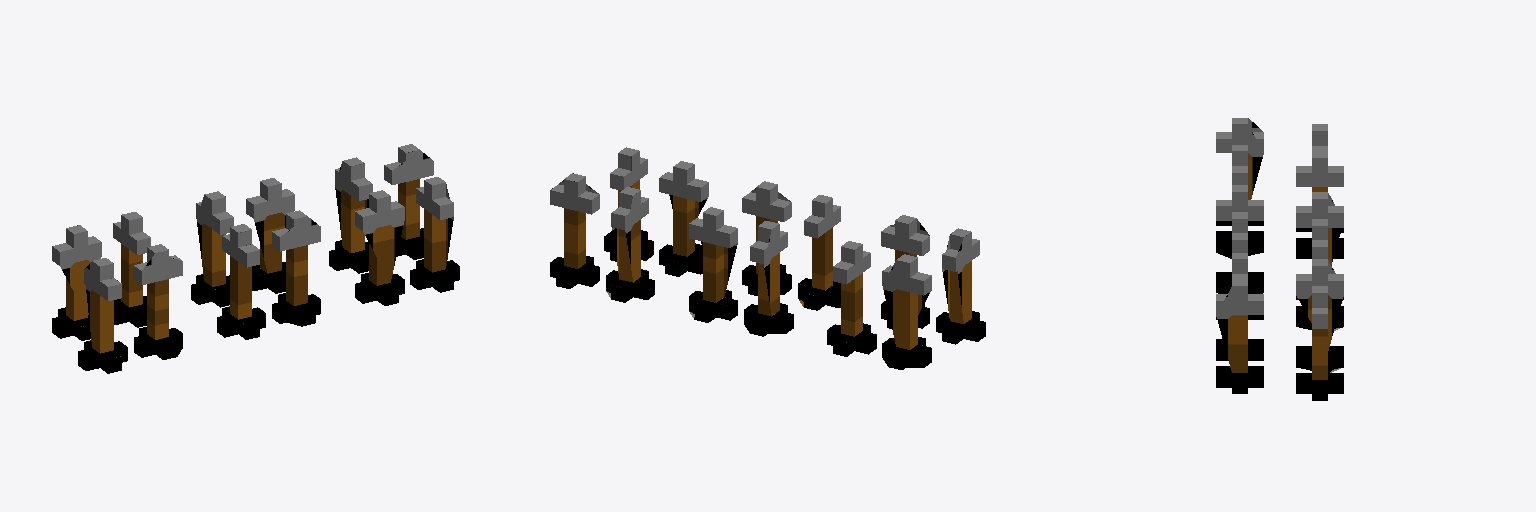
3 views of the same model, side by side, from view 1: azimuth 30°, elevation 25°; view 2: azimuth 150°, elevation 25°; view 3: azimuth 270°, elevation 25° (orthographic).
Parts seen in each view (by area): view 1: Trap_Ground_Large_Active_Trap_Ground_Large_Active.001; view 2: Trap_Ground_Large_Active_Trap_Ground_Large_Active.001; view 3: Trap_Ground_Large_Active_Trap_Ground_Large_Active.001.
Part boxes in pixels (left/top/right/bottom): Trap_Ground_Large_Active_Trap_Ground_Large_Active.001: left=52, top=144, right=459, bottom=373; Trap_Ground_Large_Active_Trap_Ground_Large_Active.001: left=550, top=147, right=985, bottom=369; Trap_Ground_Large_Active_Trap_Ground_Large_Active.001: left=1216, top=118, right=1343, bottom=400.
Bounding box in the file's own units: 2.8 × 0.7 × 0.8.
Materials: 1 (1 with a texture image).